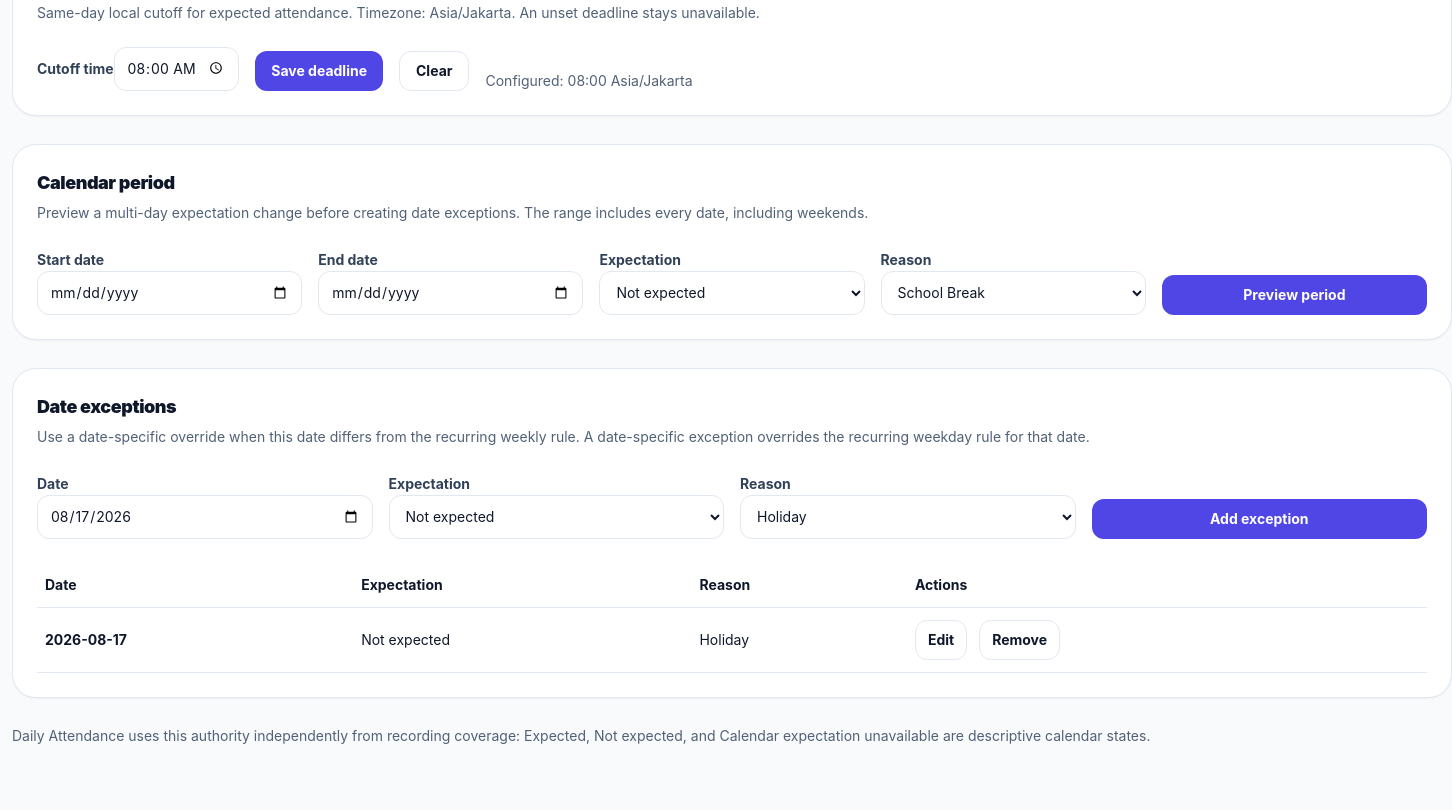
Test: AttendanceCalendar › shows exception save states and retains form input after failure
(page scrolled)
Expected: the date field with id "exception-date" holds "2026-08-17", [37,494,372,538]
Click the button "Add exception": (1259, 518) [1092,498,1427,538]
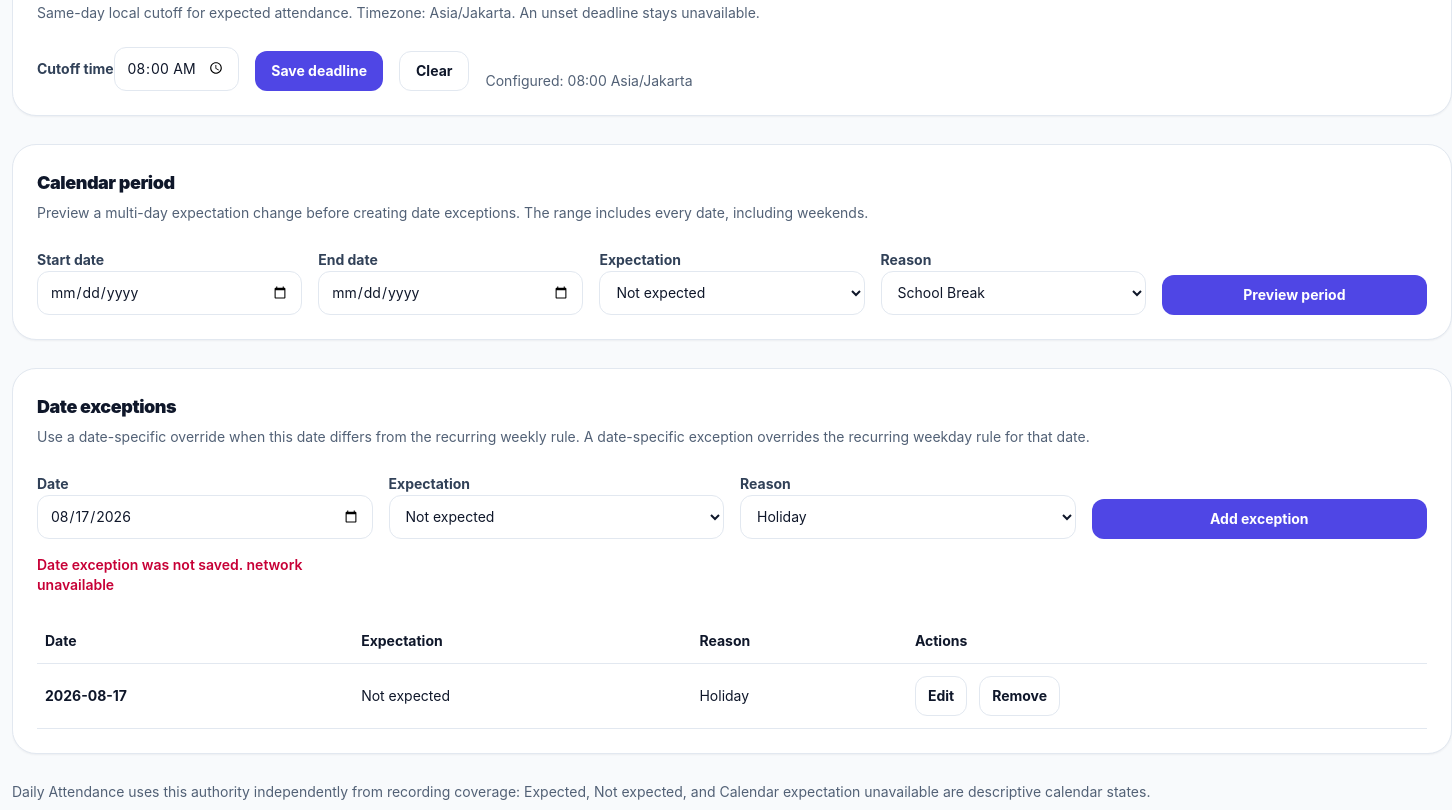
Expected: the date field with id "exception-date" holds "2026-08-17", [37,494,372,538]
Expected: the text "Date exception was not saved" is shown, [37,556,246,572]
Click the button "Add exception": (1259, 518) [1092,498,1427,538]
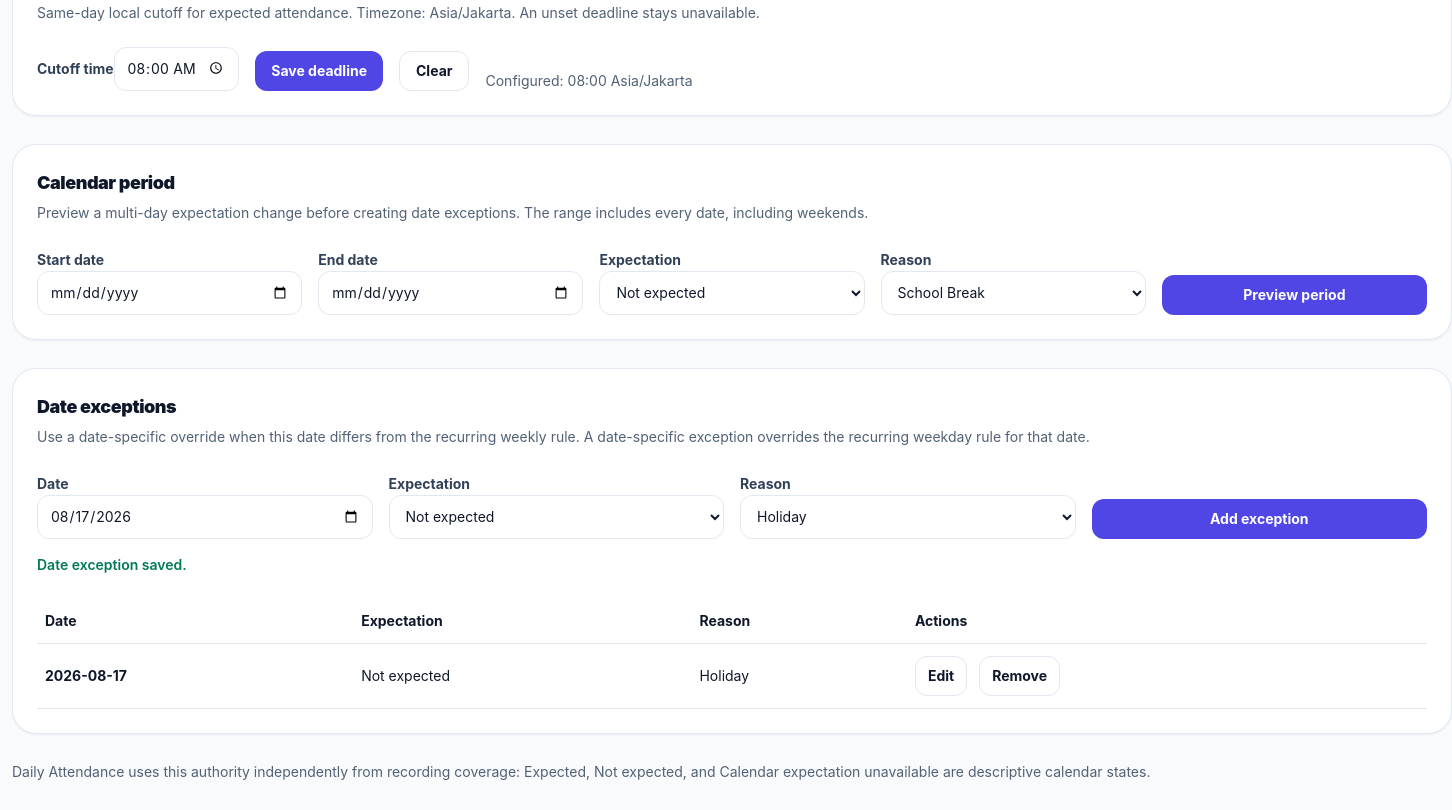
Expected: the text "Date exception saved." is shown, [37,556,187,572]
